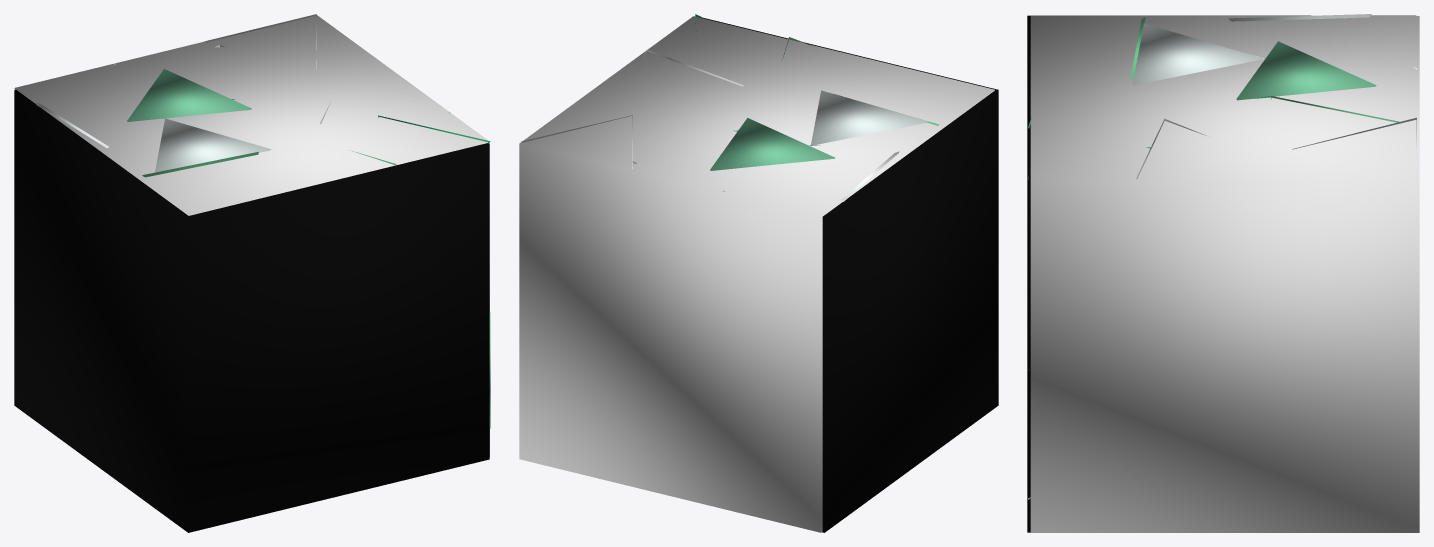
3 views of the same model, side by side, from view 1: azimuth 30°, elevation 25°; view 2: azimuth 150°, elevation 25°; view 3: azimuth 270°, elevation 25° (orthographic). The views are drawn at different scales.
Parts seen in each view (by area): view 1: Renderer Node; view 2: Renderer Node; view 3: Renderer Node.
Part boxes in pixels (x1,y1,x2,y2): Renderer Node: (14, 14, 490, 532); Renderer Node: (519, 14, 998, 532); Renderer Node: (1027, 14, 1419, 532).
Size of the model in its own units: 2.72 by 2.72 by 2.73.
